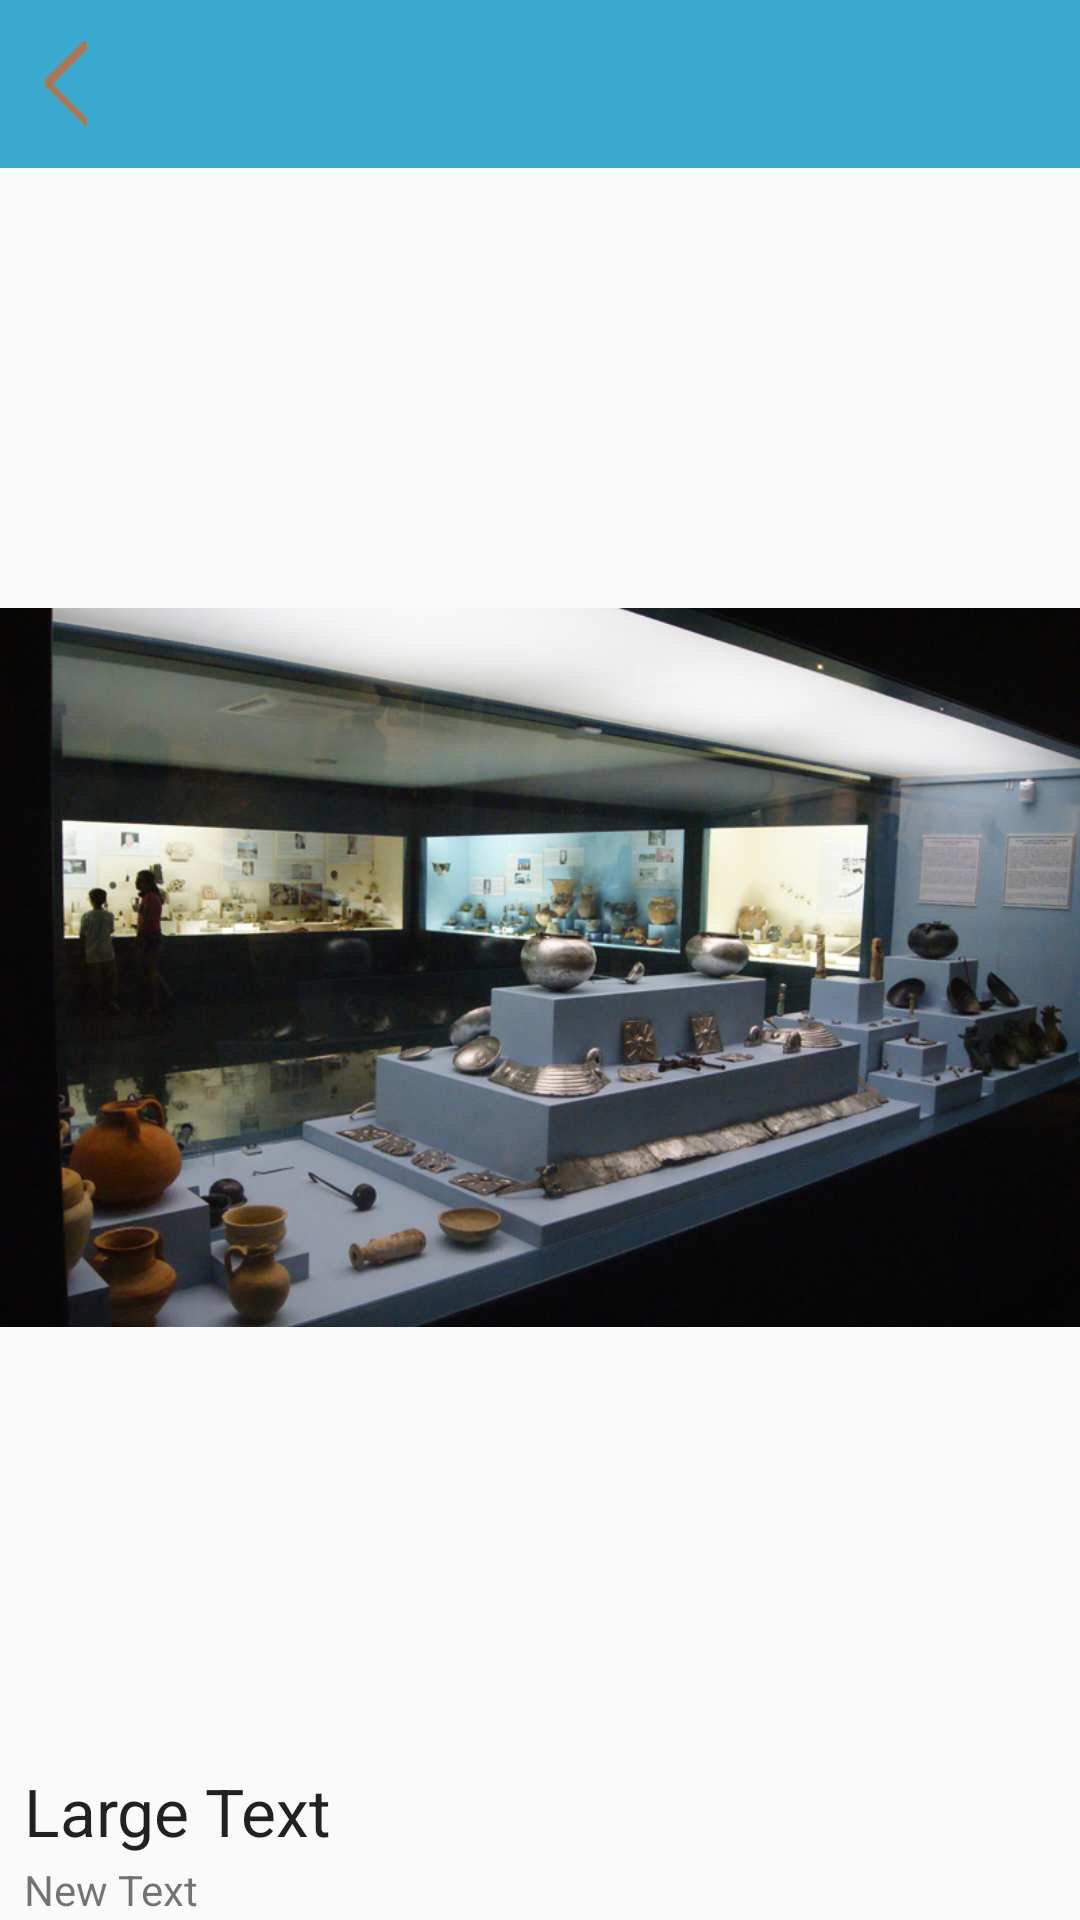

Icons on this 1080 x 1920 Android screen, each with its box as (x1, y1, x2, y2):
back: (45, 42, 87, 126)
